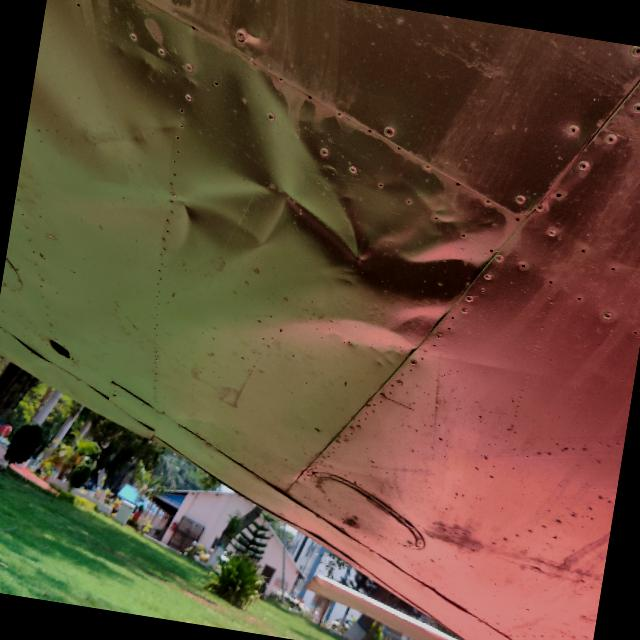dent: (120, 18, 550, 386)
